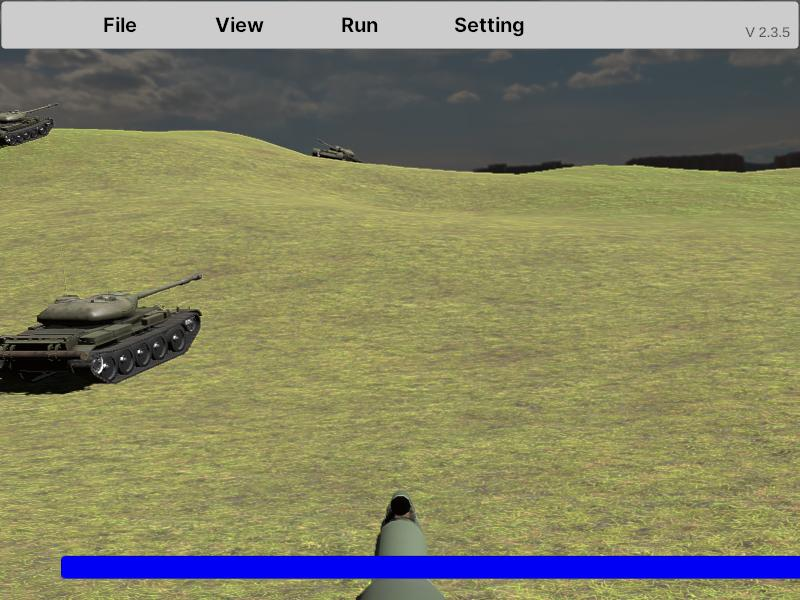Tank: (0, 273, 204, 393), (0, 102, 60, 149)
